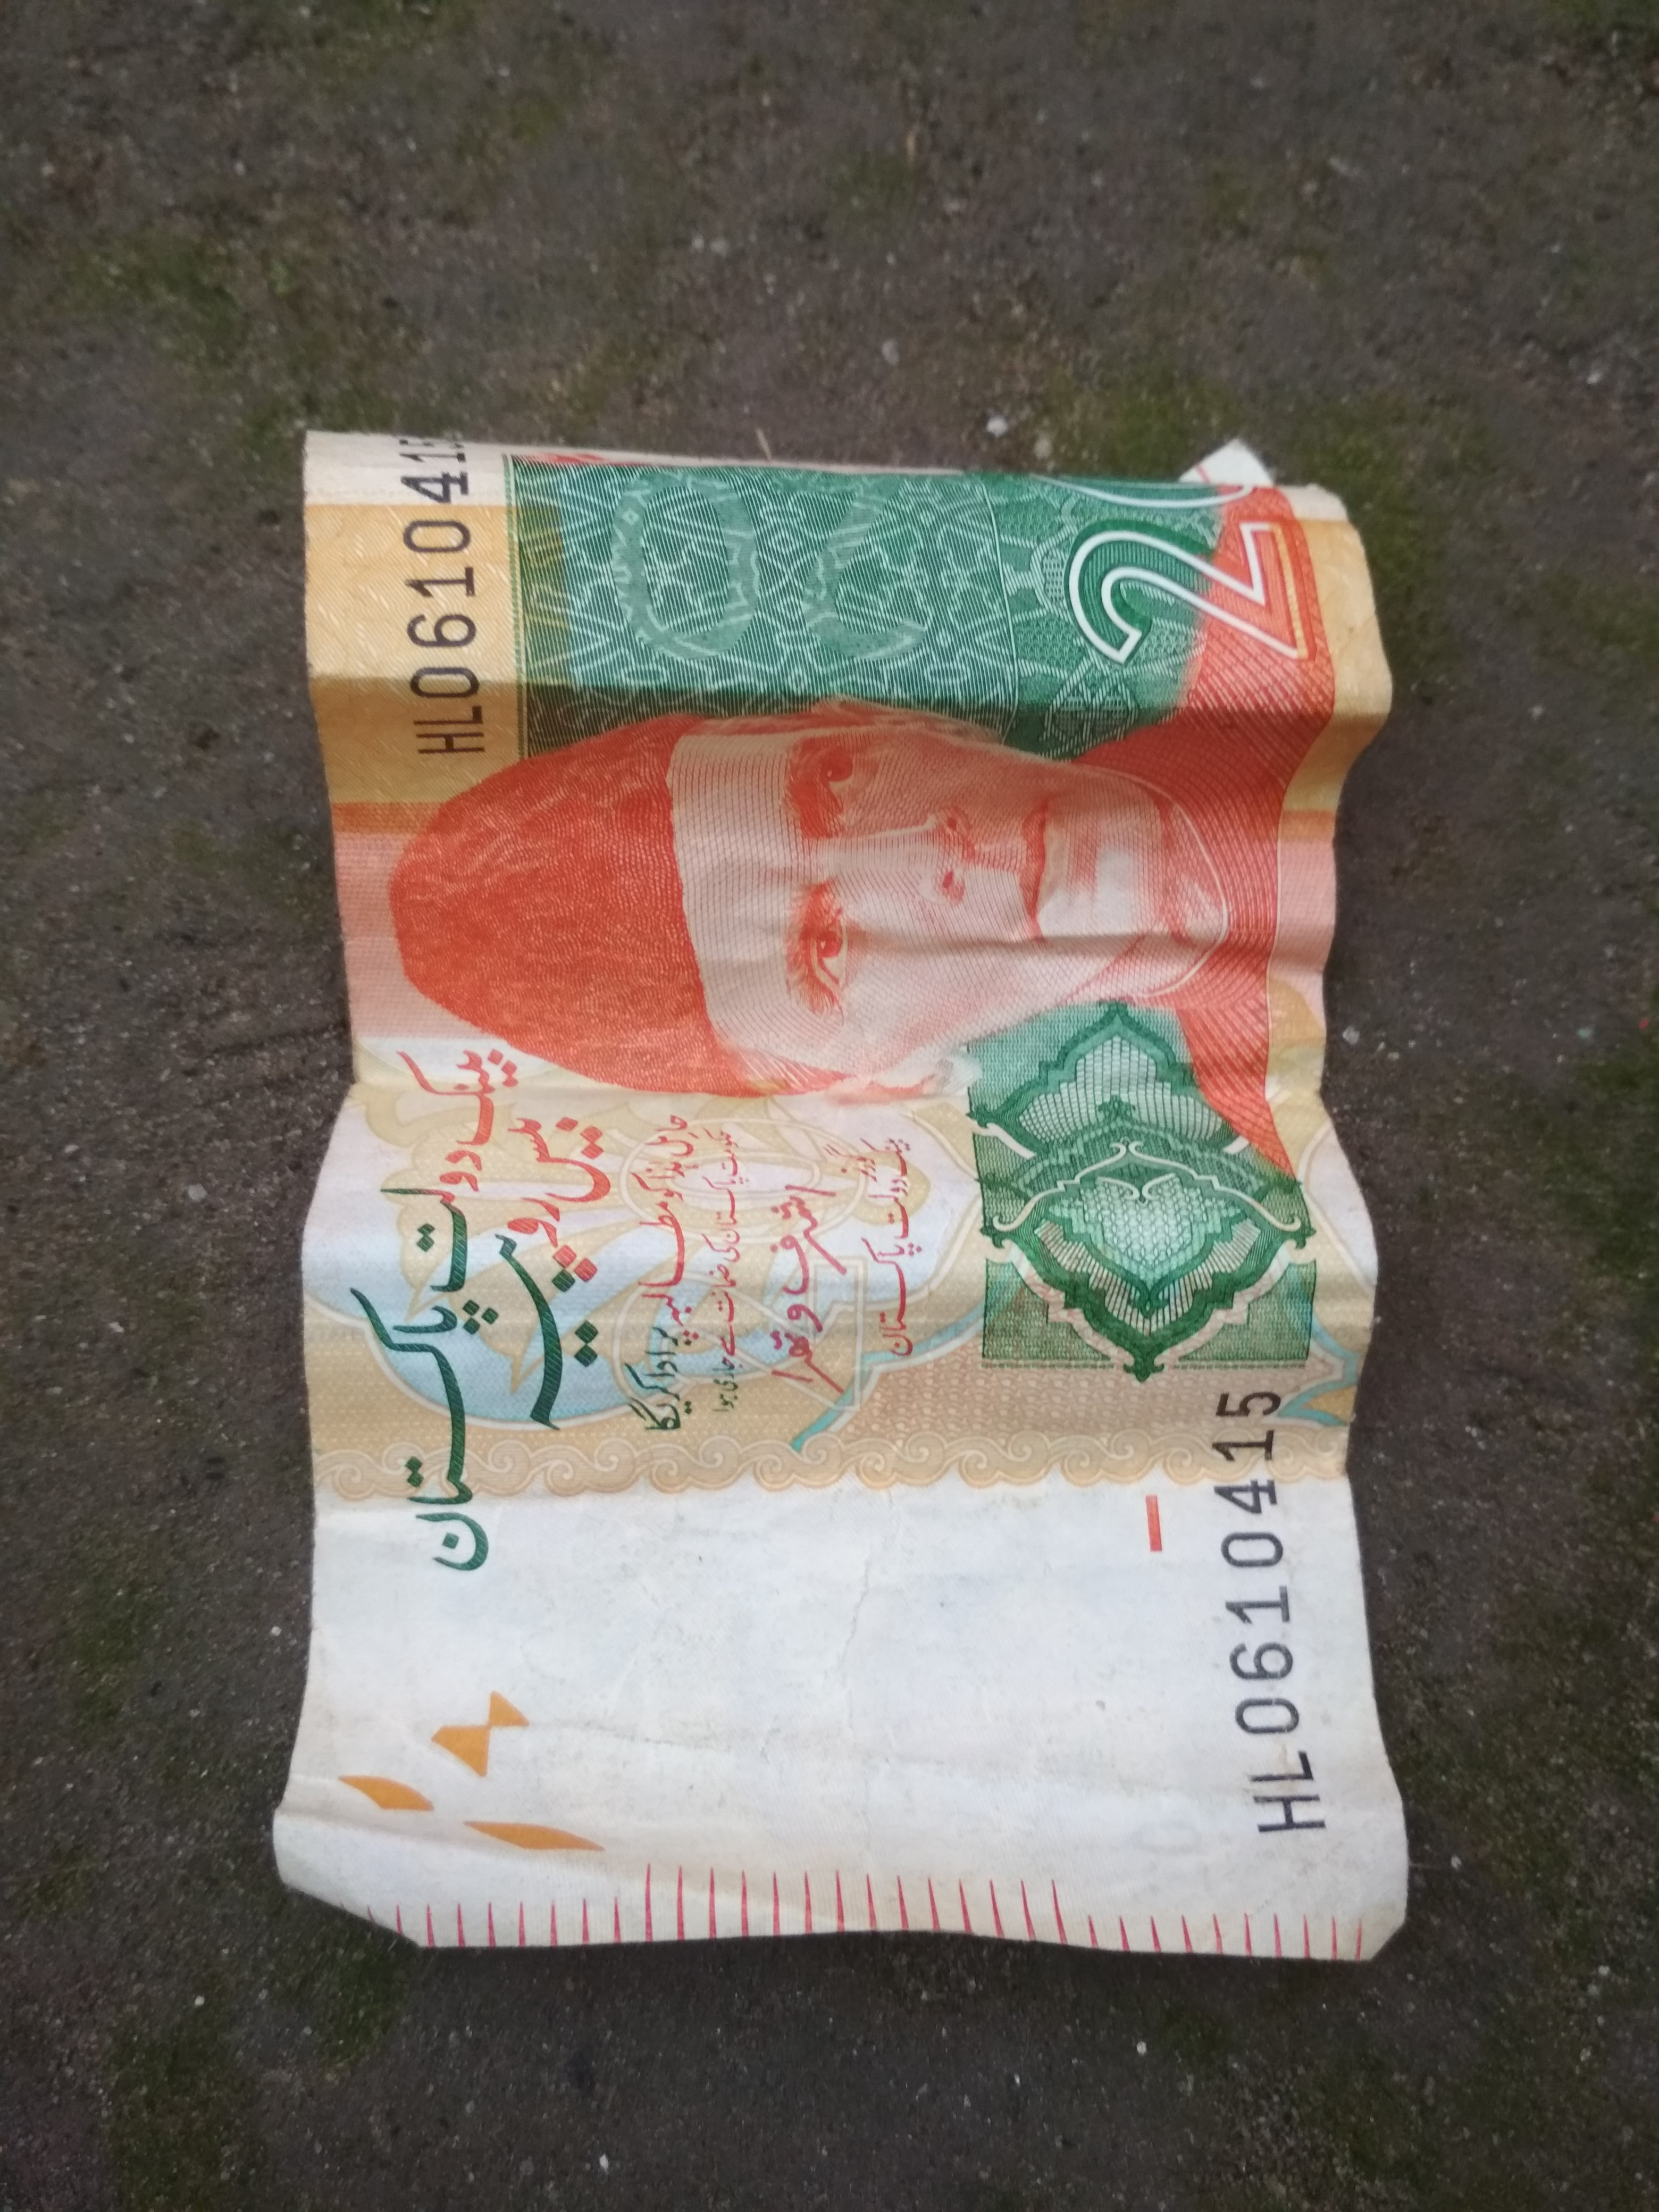20 rupee: (260, 310, 1460, 2024)
